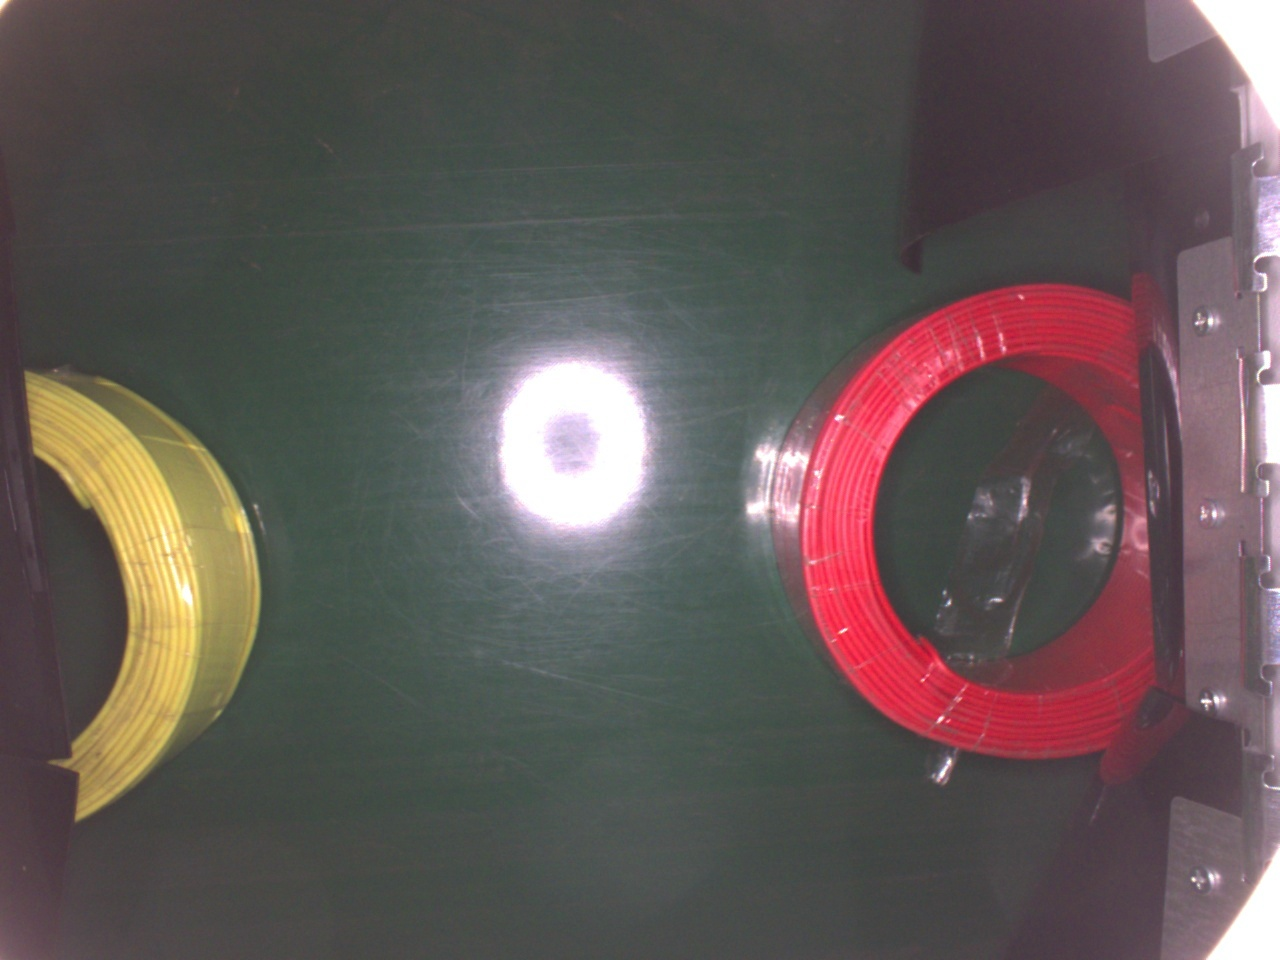red: (767, 280, 1156, 766)
yellow: (23, 359, 263, 819)
